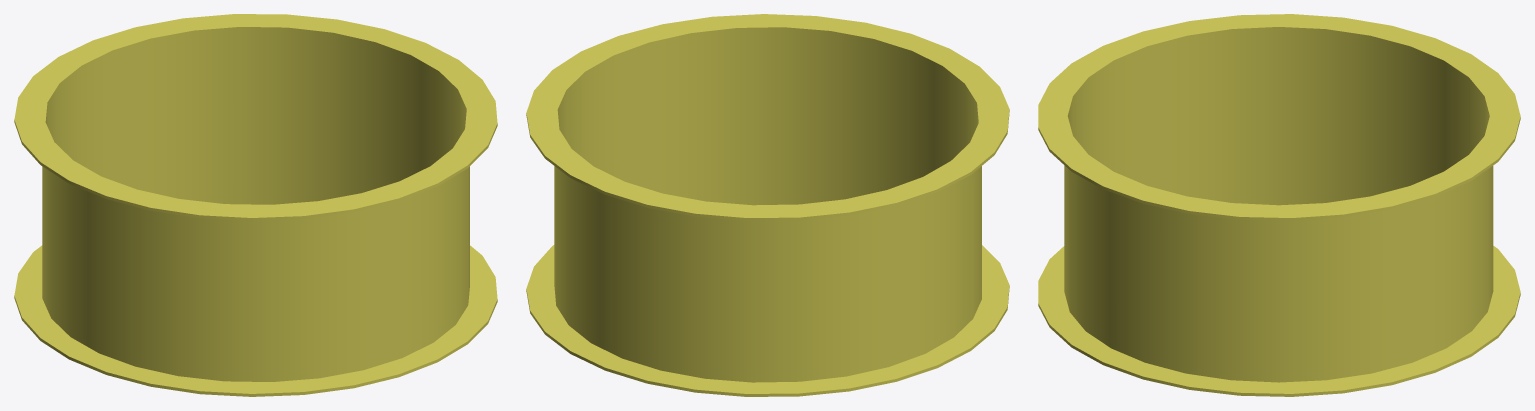
The model's file is model-straight-35.fbx.
The picture shows the model from 3 angles, left to right: view 1: azimuth 30°, elevation 25°; view 2: azimuth 150°, elevation 25°; view 3: azimuth 270°, elevation 25°; orthographic projection.
Parts seen in each view (by area): view 1: RŤr-lige-350/-Updated; view 2: RŤr-lige-350/-Updated; view 3: RŤr-lige-350/-Updated.
Part boxes in pixels (box(x1,y1,x2,y2)): RŤr-lige-350/-Updated: box(14, 14, 497, 396); RŤr-lige-350/-Updated: box(526, 14, 1009, 396); RŤr-lige-350/-Updated: box(1038, 14, 1520, 396).
Size of the model in its own units: 87.87 by 35.9 by 87.74.
